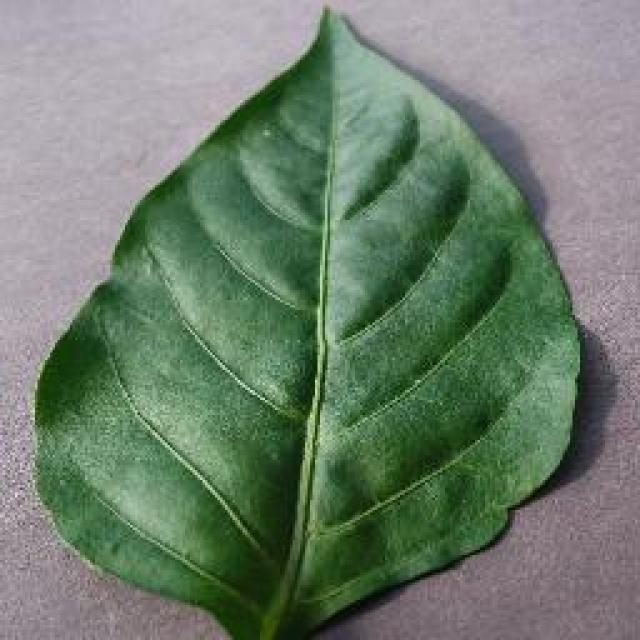Chilli_Healthy: (28, 2, 582, 638)
